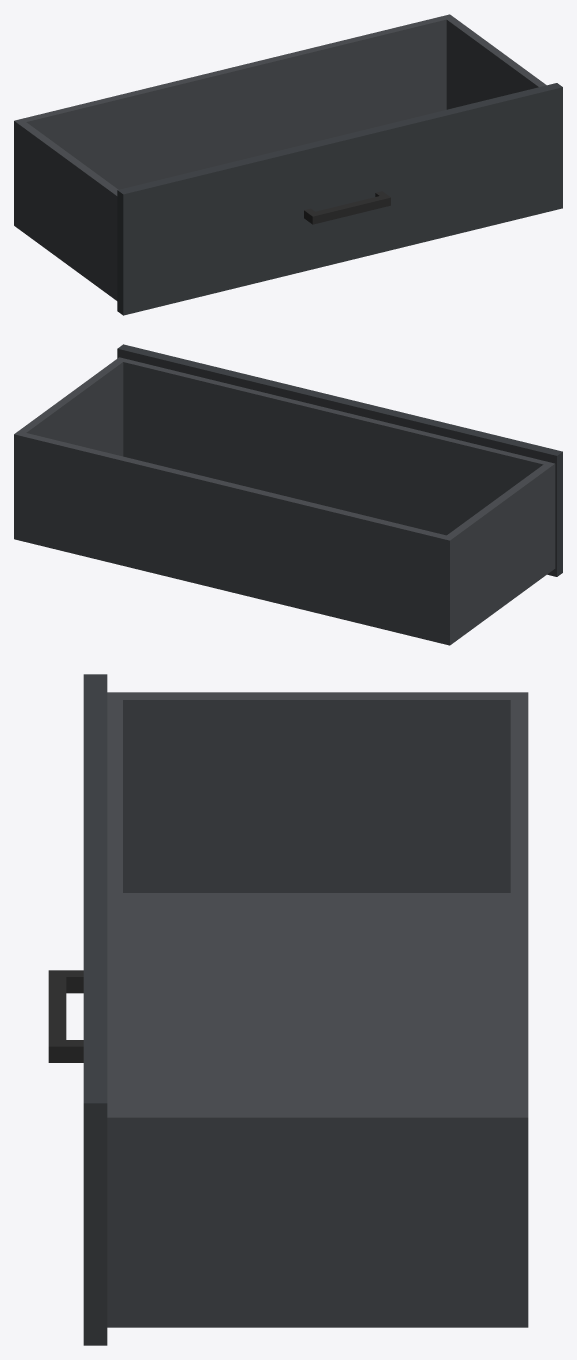
The model's file is Dresser2_C2_02.fbx.
3 renders of one model, top to bottom at view 1: azimuth 30°, elevation 25°; view 2: azimuth 150°, elevation 25°; view 3: azimuth 270°, elevation 25°, orthographic. The views are drawn at different scales.
Parts seen in each view (by area): view 1: Dresser2_C2_02; view 2: Dresser2_C2_02; view 3: Dresser2_C2_02.
Part boxes in pixels (bbox=[...]): Dresser2_C2_02: bbox=[14, 14, 562, 315]; Dresser2_C2_02: bbox=[14, 344, 562, 645]; Dresser2_C2_02: bbox=[48, 674, 528, 1345].
Bounding box in the file's own units: 85.7 × 22.57 × 40.51.
